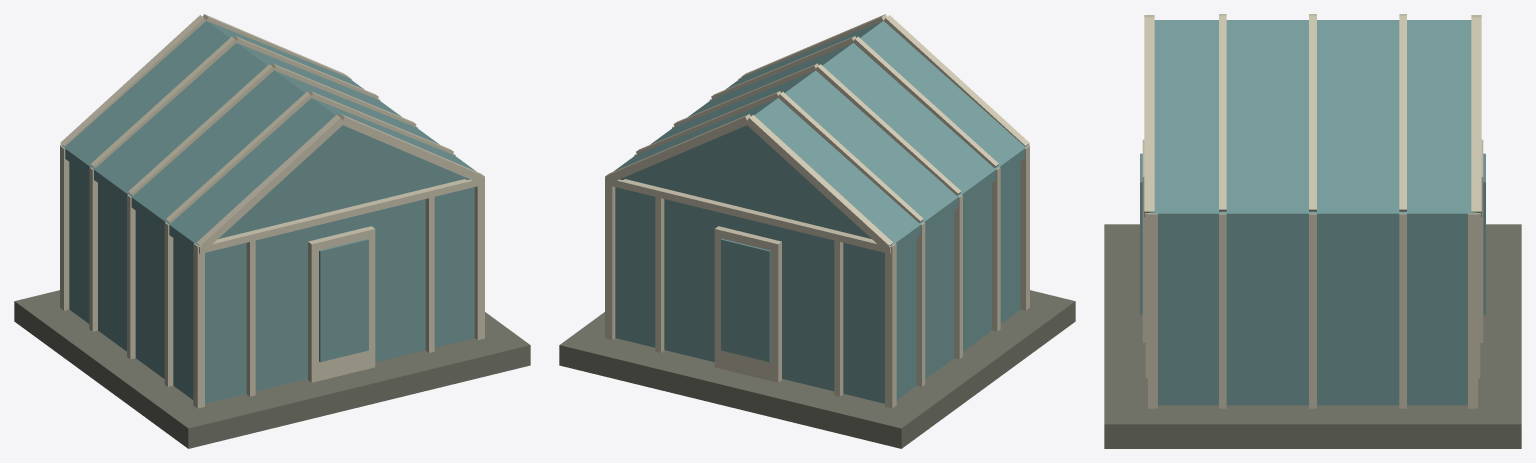
The model's file is Backyard_Greenhouse_Standard.glb.
The picture shows the model from 3 angles, left to right: view 1: azimuth 30°, elevation 25°; view 2: azimuth 150°, elevation 25°; view 3: azimuth 270°, elevation 25°; orthographic projection. The views are drawn at different scales.
Visible parts, largest first — view 1: Backyard_Greenhouse_Standard; view 2: Backyard_Greenhouse_Standard; view 3: Backyard_Greenhouse_Standard.
Part boxes in pixels (x1=…): Backyard_Greenhouse_Standard: x1=14, y1=14, x2=530, y2=448; Backyard_Greenhouse_Standard: x1=559, y1=14, x2=1075, y2=448; Backyard_Greenhouse_Standard: x1=1104, y1=14, x2=1521, y2=448.
Size of the model in its own units: 4.2 by 3.27 by 3.7.
